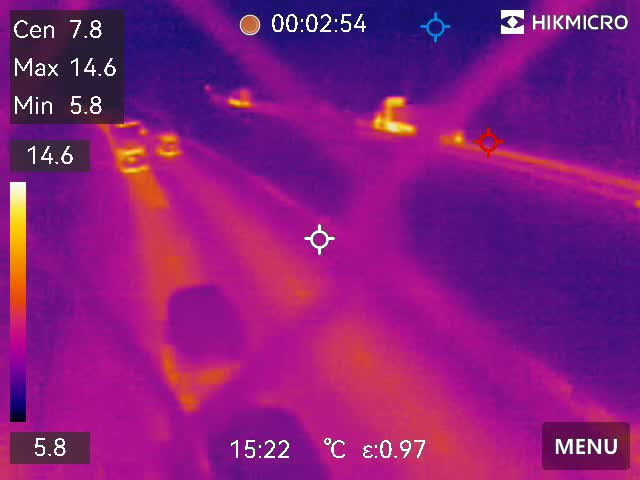heavyTruck: (364, 91, 471, 145), (98, 107, 148, 171)
